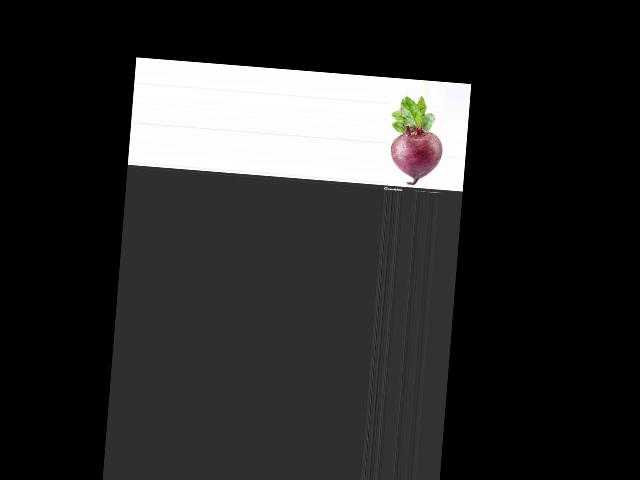beet: (386, 94, 447, 186)
